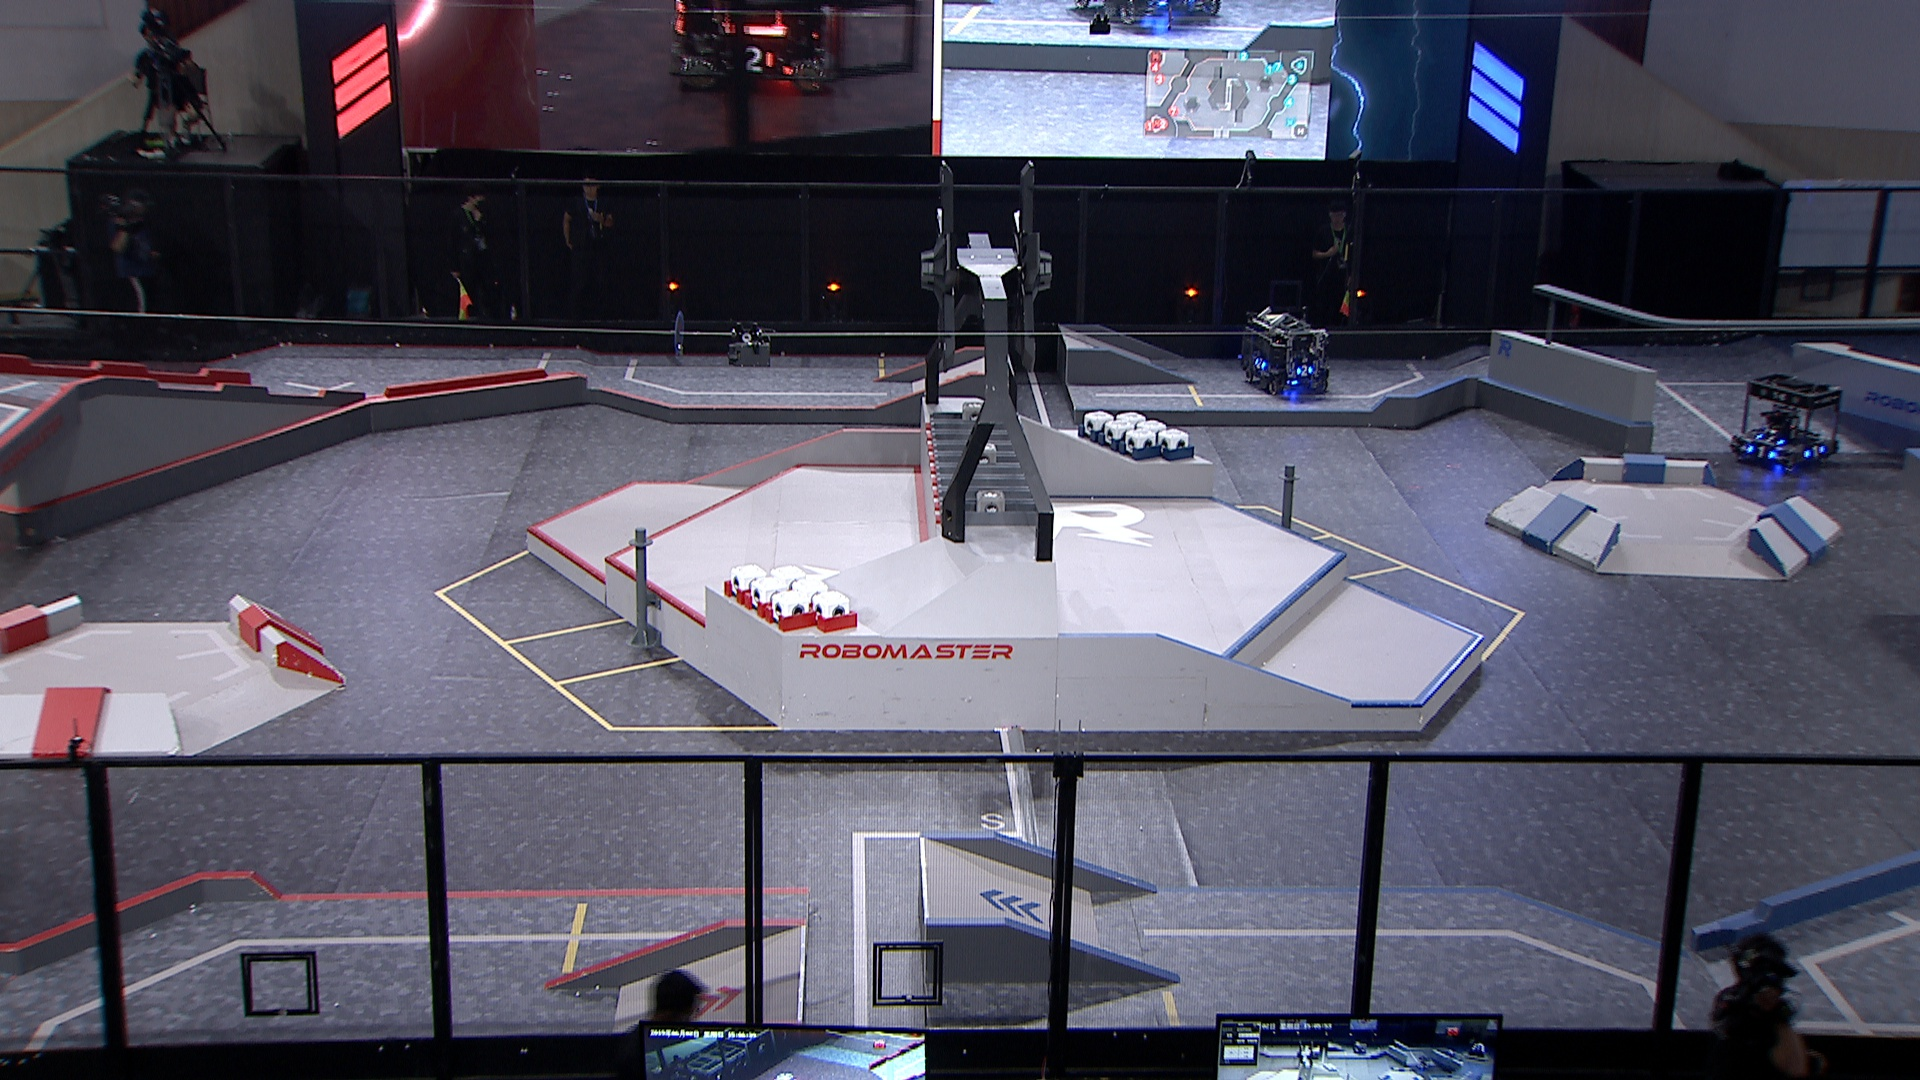armor: (1746, 442, 1776, 462), (1756, 433, 1787, 446), (1803, 444, 1826, 460), (1295, 363, 1315, 376), (1253, 356, 1267, 372)
car: (1727, 373, 1844, 472), (1238, 305, 1332, 396)
ignore: (667, 0, 835, 100), (1072, 0, 1221, 26)
